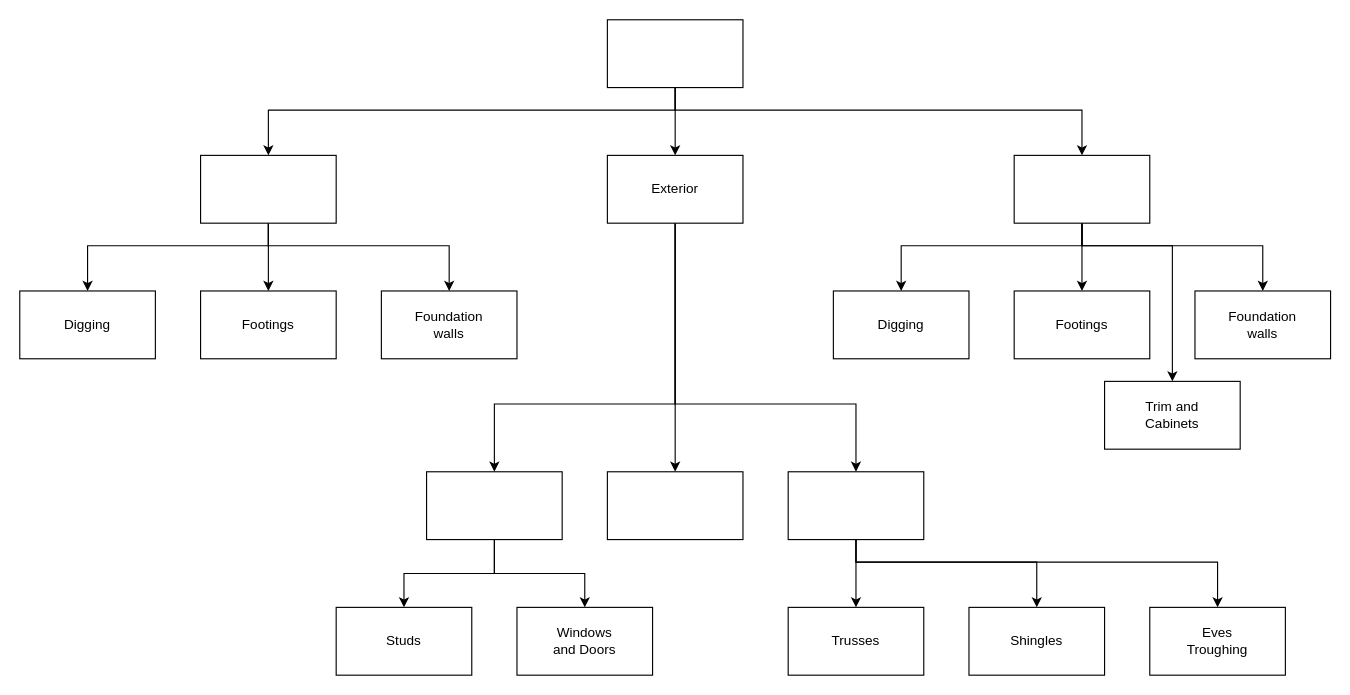
The diagram is 1350 pixels wide and 695 high, and some of its shapes have lost their labels. Here are the shapes that lost their labels. From the top down, the box of each, then its label:
(606, 19, 743, 88): Building a House
(199, 154, 336, 223): Foundation
(1013, 154, 1150, 223): Inside
(425, 471, 562, 540): Roughing
(606, 471, 743, 540): Exterior Walls
(787, 471, 924, 540): Roof
